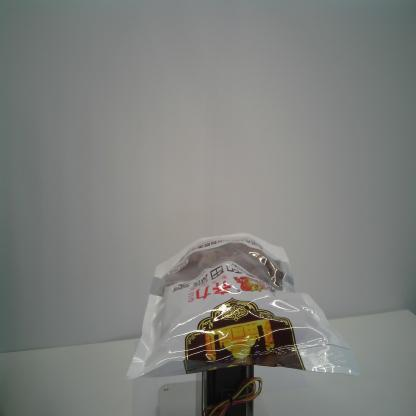Dried Food: (122, 229, 362, 381)
